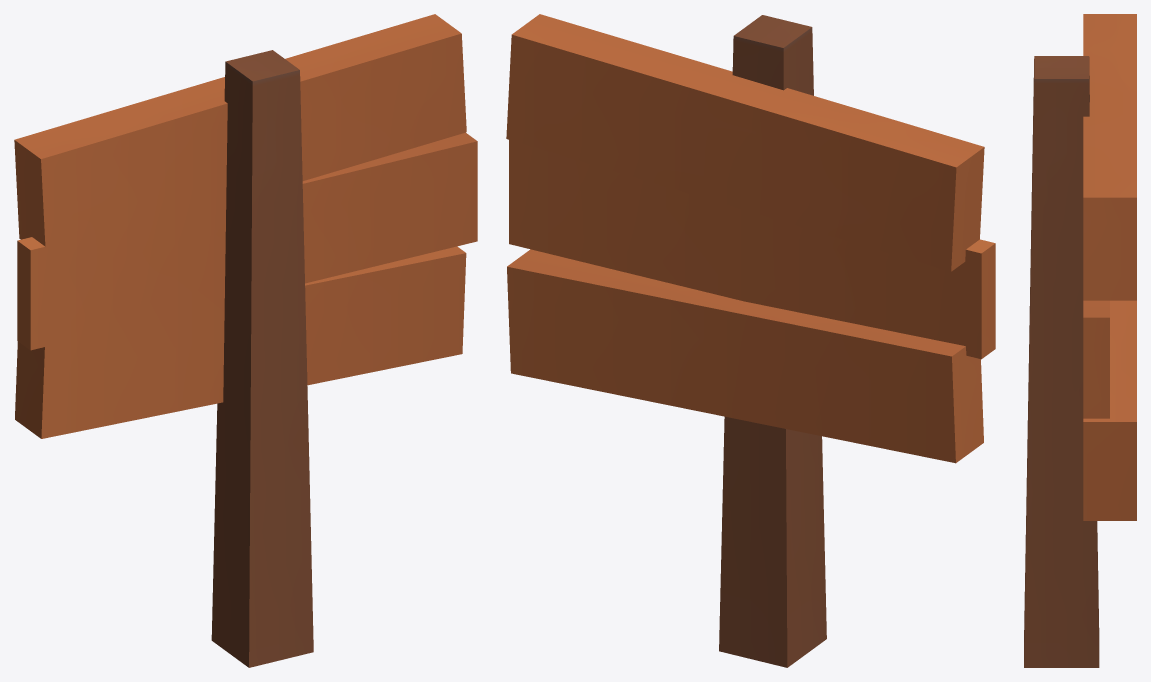
File: sign.glb
3 renders of one model, left to right at view 1: azimuth 30°, elevation 25°; view 2: azimuth 150°, elevation 25°; view 3: azimuth 270°, elevation 25°, orthographic. The views are drawn at different scales.
Parts seen in each view (by area): view 1: sign; view 2: sign; view 3: sign.
Part boxes in pixels (bbox=[...]): sign: bbox=[14, 14, 477, 667]; sign: bbox=[506, 14, 995, 667]; sign: bbox=[1024, 14, 1136, 667].
Bounding box in the file's own units: 0.4835 × 0.6 × 0.105.
Materials: 1 (1 with a texture image).
